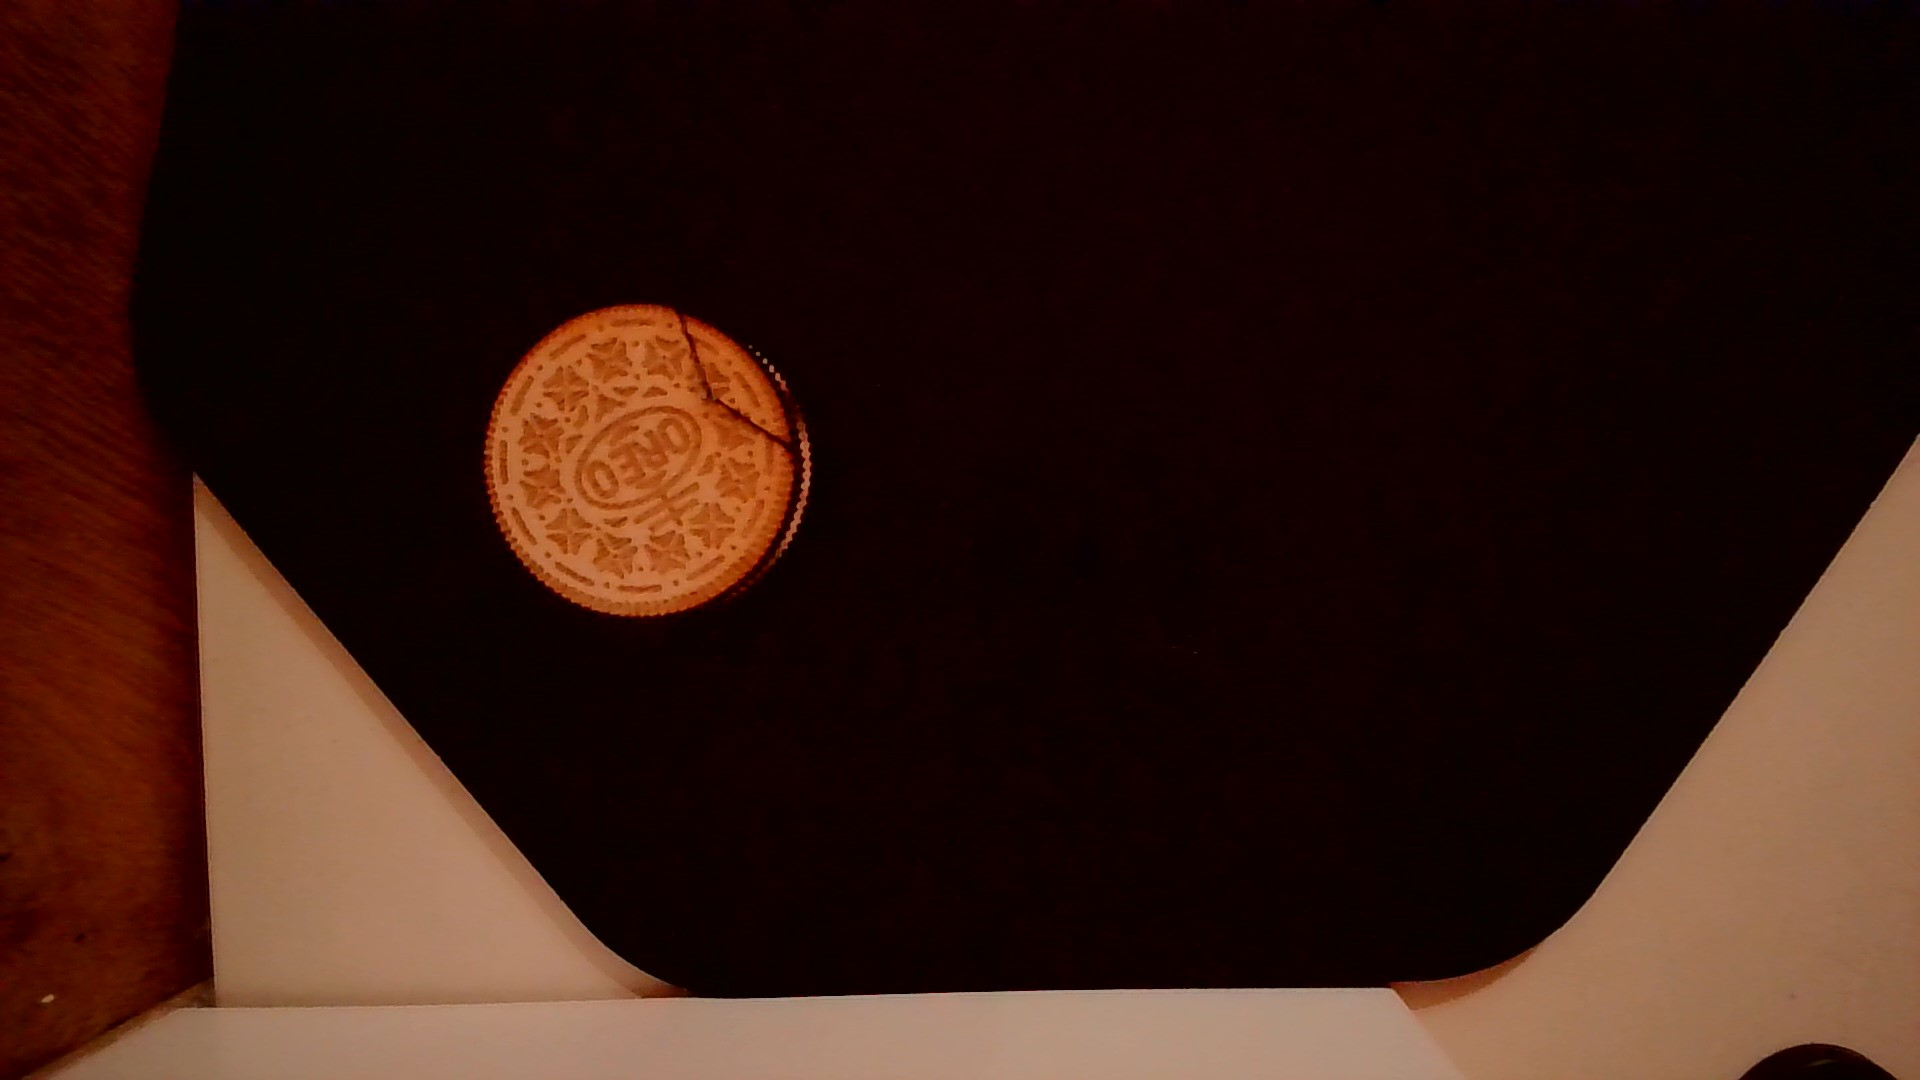Fissure: (663, 305, 800, 458)
Oréo: (471, 294, 825, 630)
